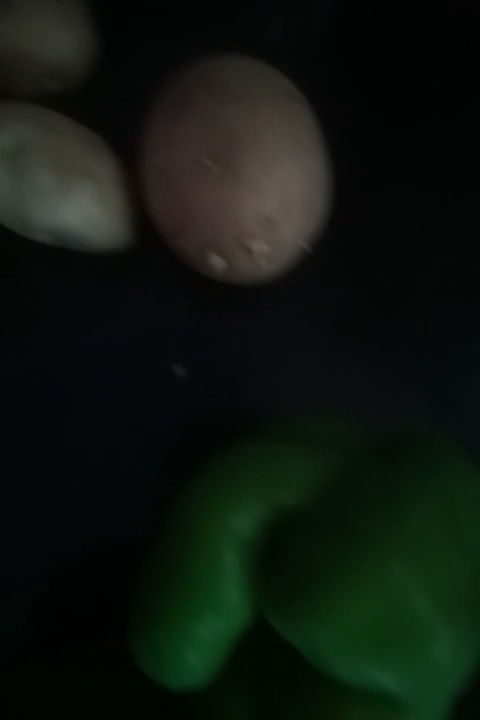capsicum: (171, 433, 479, 720)
potato: (143, 51, 339, 290), (1, 96, 136, 269), (1, 1, 104, 102)
